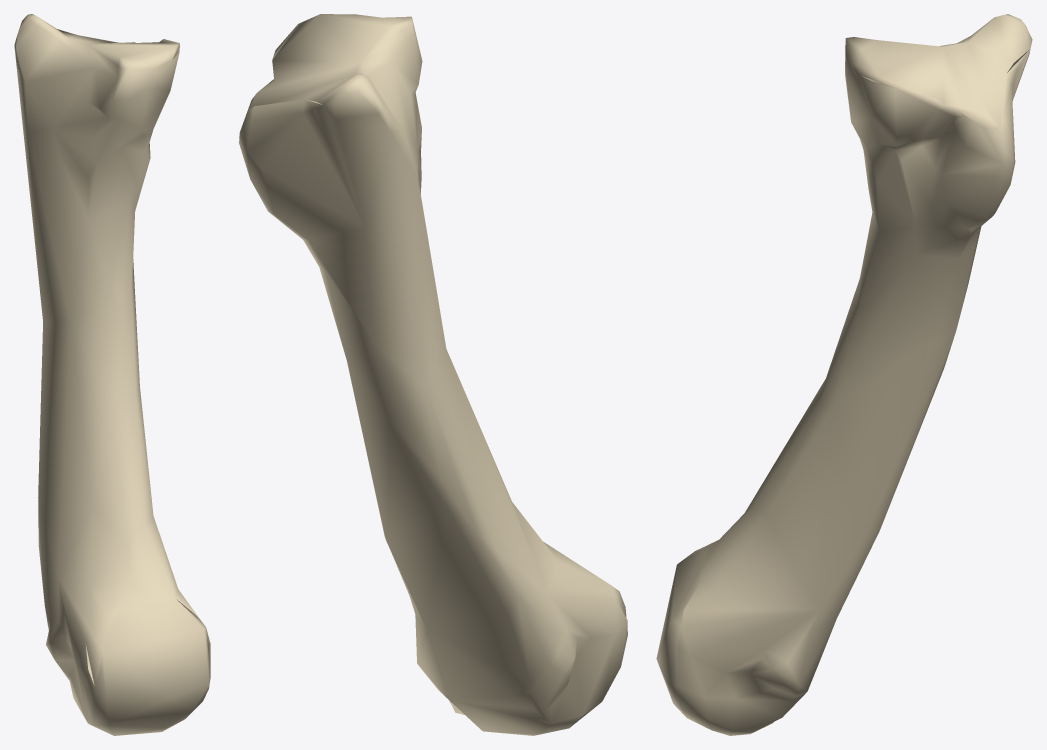
File: esqueleto-third-metacarpal-bone-r.glb
The picture shows the model from 3 angles, left to right: view 1: azimuth 30°, elevation 25°; view 2: azimuth 150°, elevation 25°; view 3: azimuth 270°, elevation 25°; orthographic projection. The views are drawn at different scales.
Visible parts, largest first — view 1: Third metacarpal bone.r; view 2: Third metacarpal bone.r; view 3: Third metacarpal bone.r.
Boxes of the visible parts, x1,y1,x2,y2 form: Third metacarpal bone.r: (14,14,210,735); Third metacarpal bone.r: (239,14,627,735); Third metacarpal bone.r: (656,14,1032,735).
Bounding box in the file's own units: 0.0208 × 0.0667 × 0.0317.
